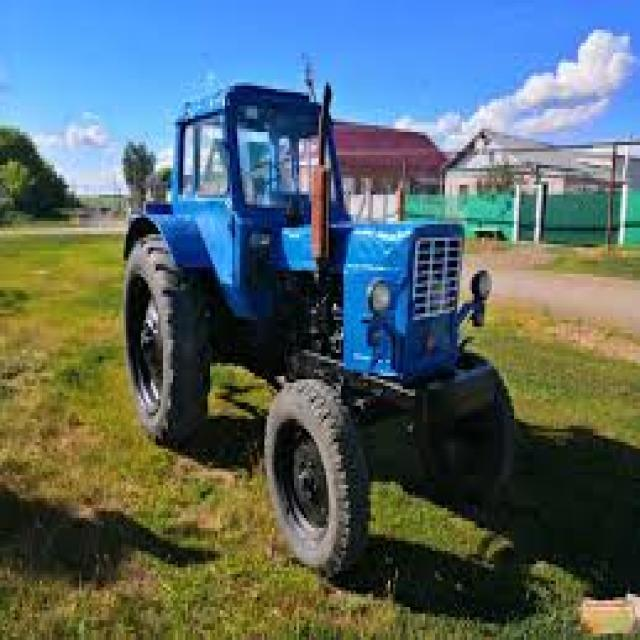Tratores - v5 YOLO V8L 2024-11-13: (105, 71, 518, 595)
